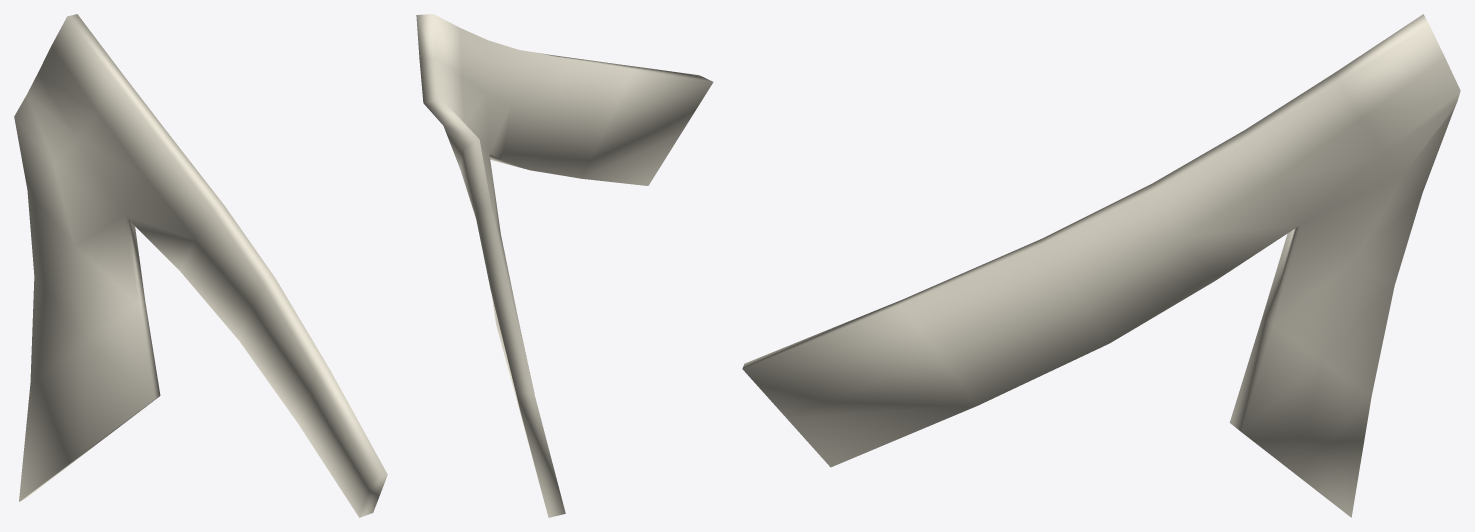
3 renders of one model, left to right at view 1: azimuth 30°, elevation 25°; view 2: azimuth 150°, elevation 25°; view 3: azimuth 270°, elevation 25°, orthographic. The views are drawn at different scales.
Parts seen in each view (by area): view 1: ZA_e9299cc04ee9cf0f; view 2: ZA_e9299cc04ee9cf0f; view 3: ZA_e9299cc04ee9cf0f.
Boxes of the visible parts, x1=… form: ZA_e9299cc04ee9cf0f: x1=14, y1=14, x2=387, y2=517; ZA_e9299cc04ee9cf0f: x1=416, y1=14, x2=713, y2=517; ZA_e9299cc04ee9cf0f: x1=742, y1=14, x2=1460, y2=517.
Bounding box in the file's own units: 0.0055 × 0.0158 × 0.0189.
